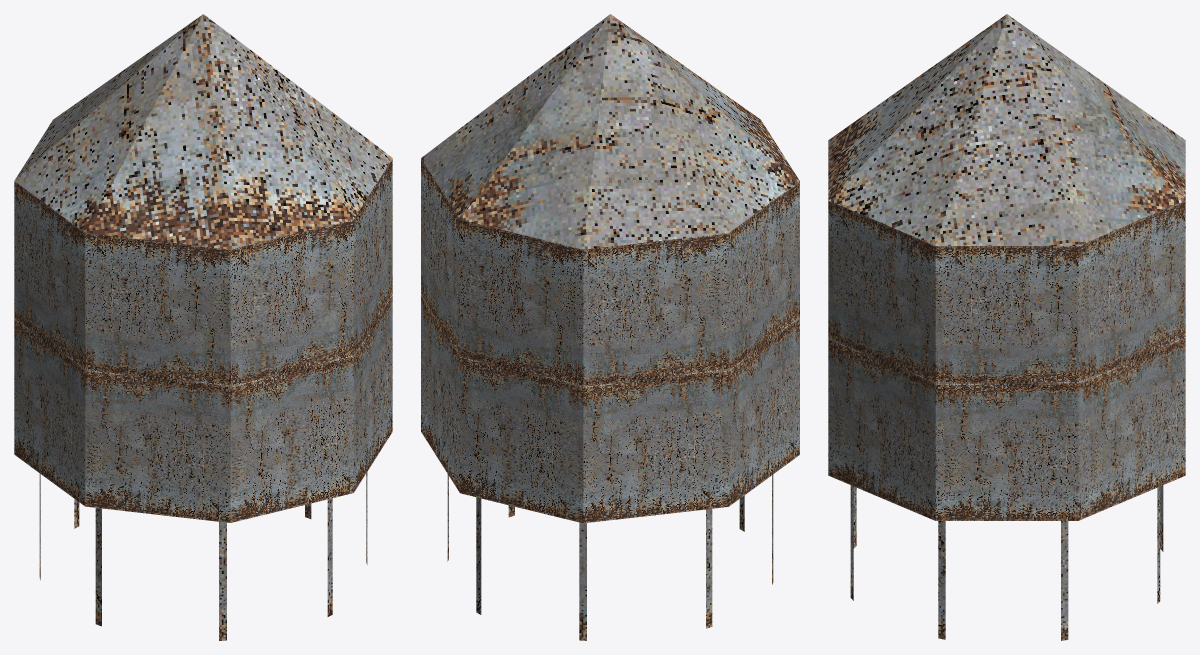
File: water tank.fbx
The picture shows the model from 3 angles, left to right: view 1: azimuth 30°, elevation 25°; view 2: azimuth 150°, elevation 25°; view 3: azimuth 270°, elevation 25°; orthographic projection.
Parts seen in each view (by area): view 1: Cube.001; view 2: Cube.001; view 3: Cube.001.
Part boxes in pixels (x1,y1,x2,y2): Cube.001: (14,14,392,640); Cube.001: (421,14,799,640); Cube.001: (828,14,1185,640).
Bounding box in the file's own units: 750 × 1300 × 750.
